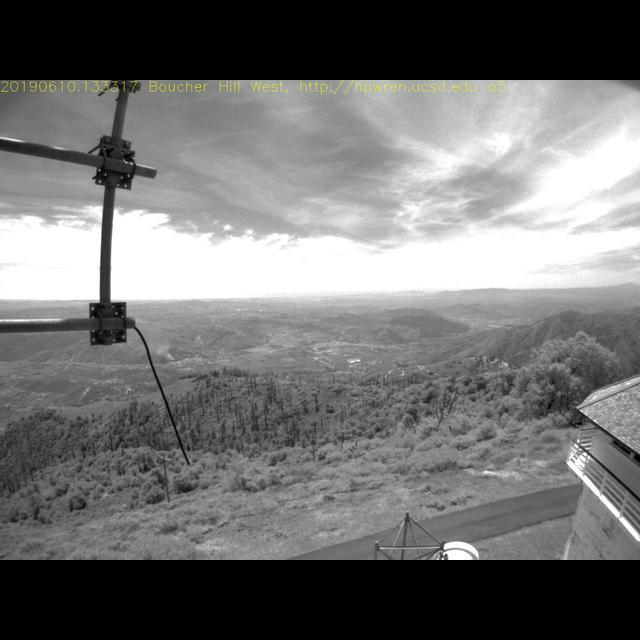Smoke: (138, 318, 177, 362)
